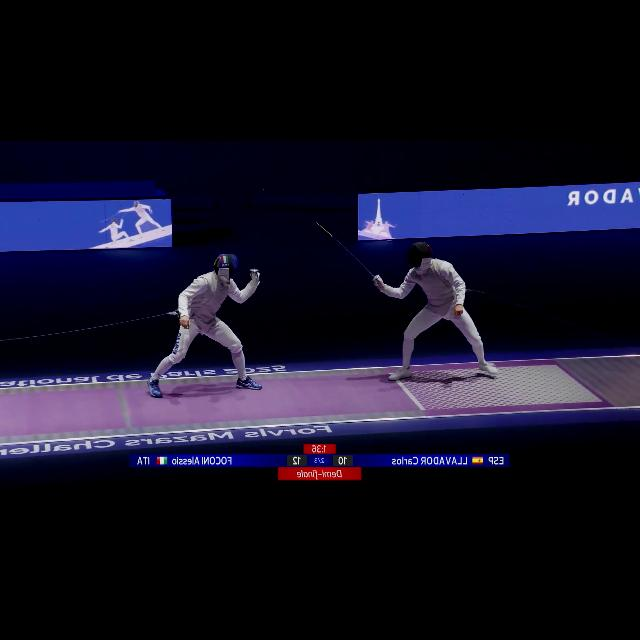blade: (314, 217, 381, 286)
